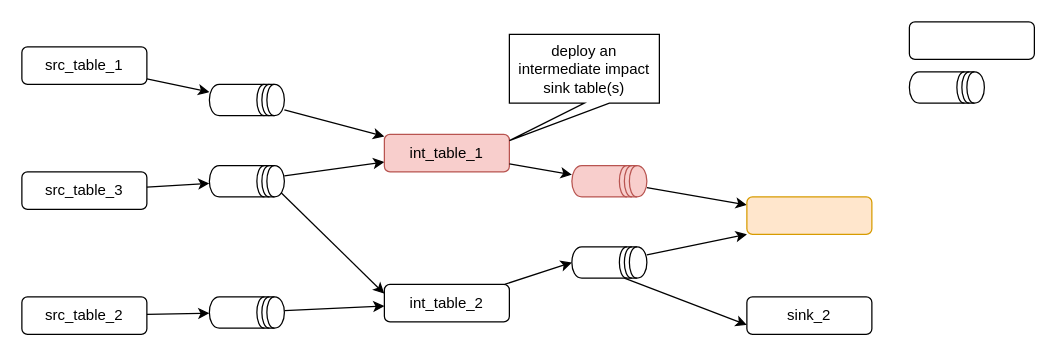
Image size: 1056x358. Some labels were removed from this diagram. The shapes that lost their labels are listed below. From the top down, each one's centre as x and y in pixels, then its label:
At [971,40]: "flink dml statement".
At [946,87]: "topic".
At [809,215]: "fct_order".
